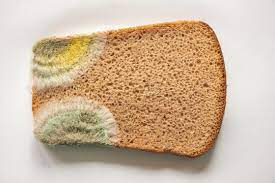mold_bread: (33, 97, 120, 150), (26, 29, 105, 84)
